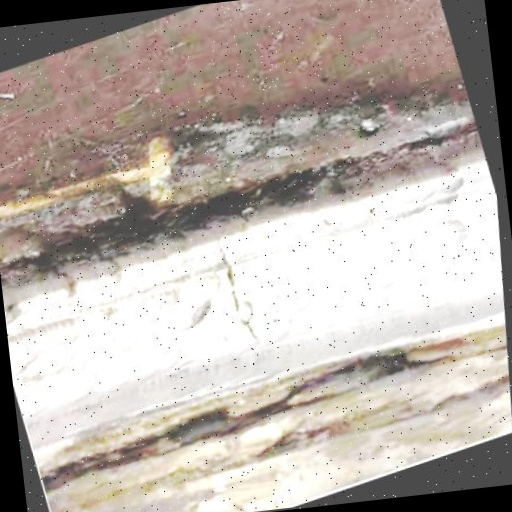crack: (201, 225, 274, 356)
